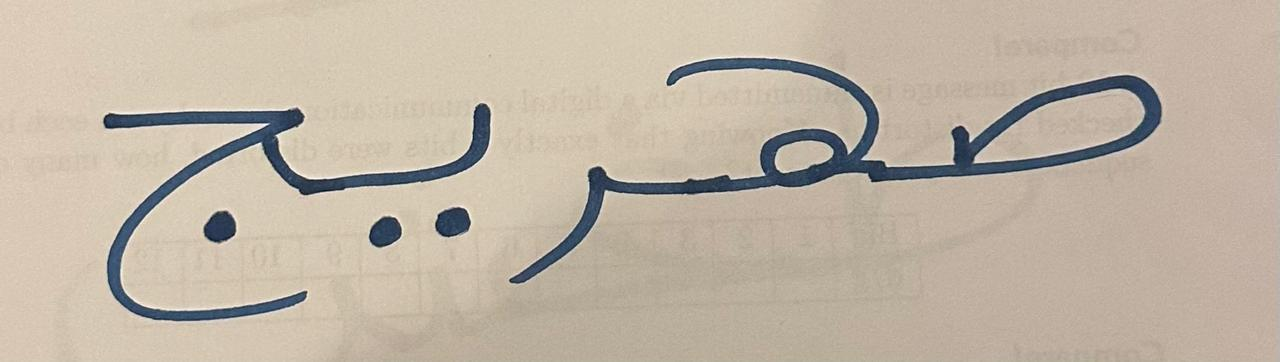jeem: (628, 14, 900, 264)
kaf: (45, 16, 319, 346)
sad: (507, 97, 623, 309)
seen: (905, 12, 1192, 255)
zah: (322, 48, 502, 302)
